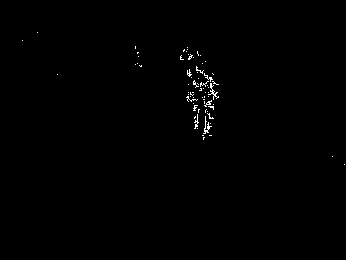person: (196, 67, 220, 141)
